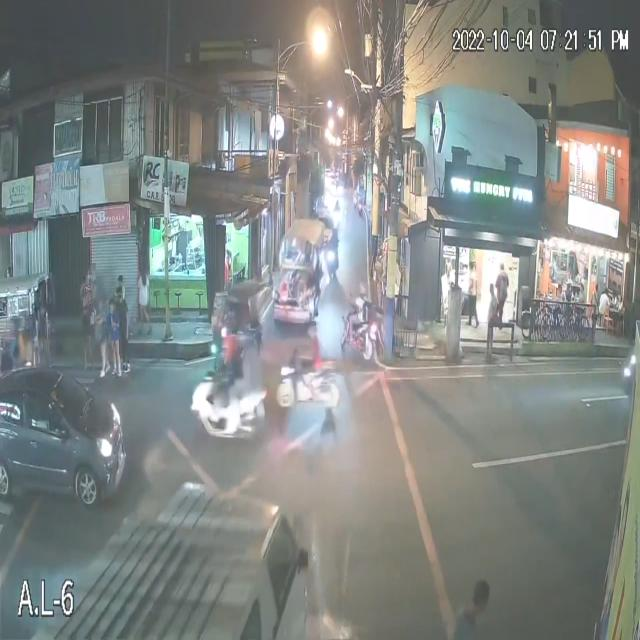Full-Faced: (221, 333, 235, 362)
Not-Wearing-Helmet: (471, 577, 491, 615)
